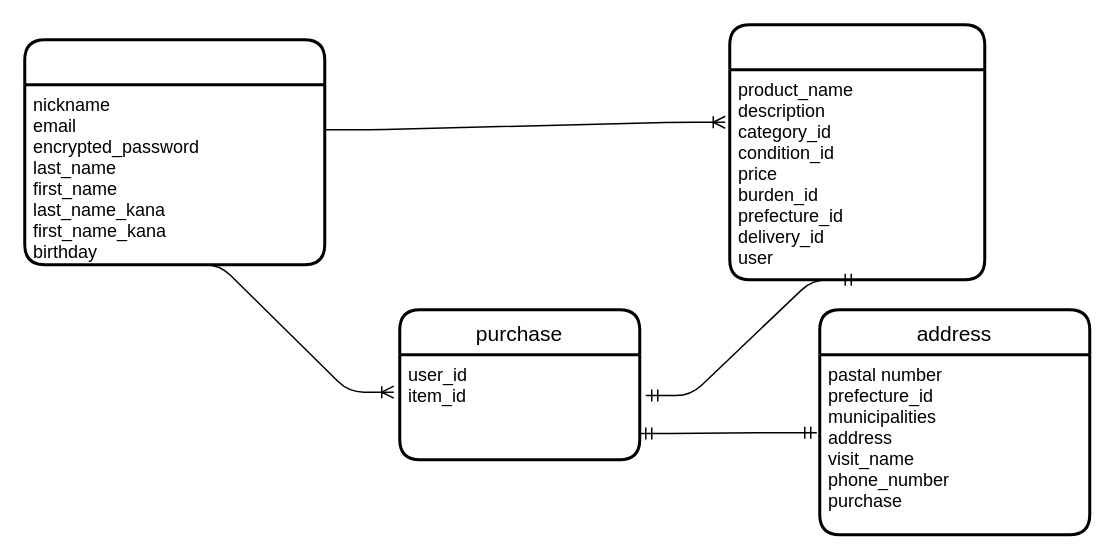
Some shapes in this 1115 by 560 pixel diagram are drawn without their labels. The shapes that lost their labels are listed below. From the top down, each one's box as (x1, y1, x2, y2) in pixels, then its label:
(22, 38, 326, 266): users
(728, 22, 986, 280): items
